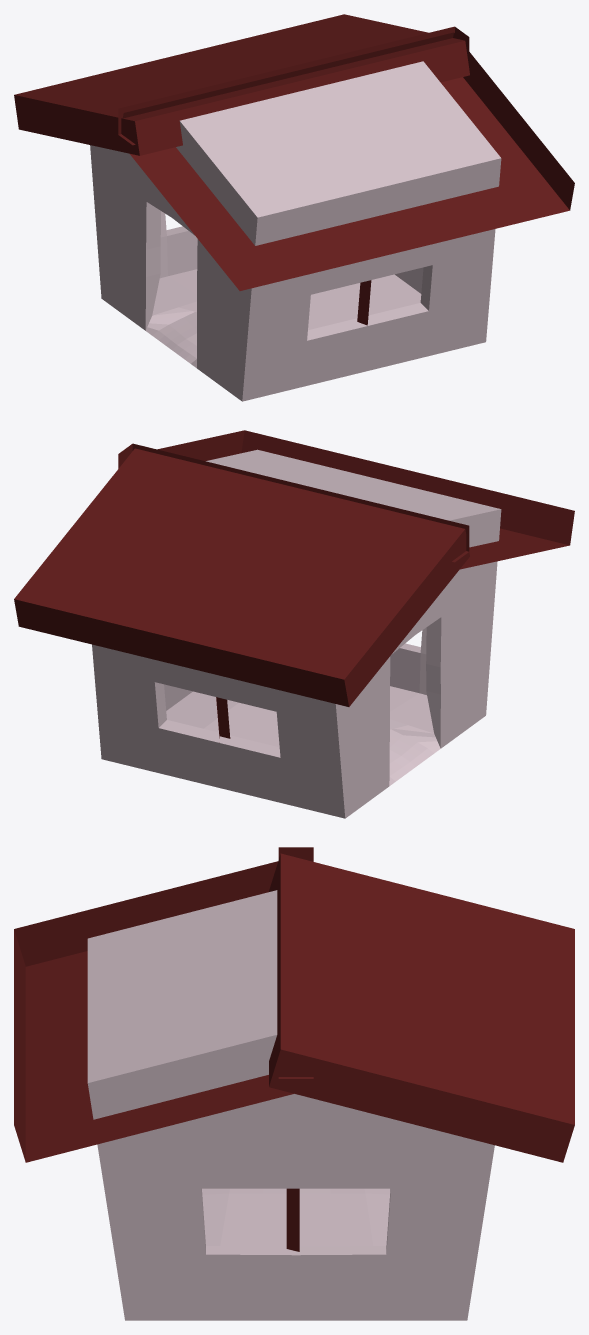
The model's file is house.glb.
The picture shows the model from 3 angles, top to bottom: view 1: azimuth 30°, elevation 25°; view 2: azimuth 150°, elevation 25°; view 3: azimuth 270°, elevation 25°; orthographic projection. The views are drawn at different scales.
Visible parts, largest first — view 1: Cylinder; view 2: Cylinder; view 3: Cylinder.
Boxes of the visible parts, x1,y1,x2,y2 form: Cylinder: [14, 14, 574, 401]; Cylinder: [14, 430, 574, 818]; Cylinder: [14, 847, 574, 1320].
Bounding box in the file's own units: 7.59 × 5.34 × 9.01.
